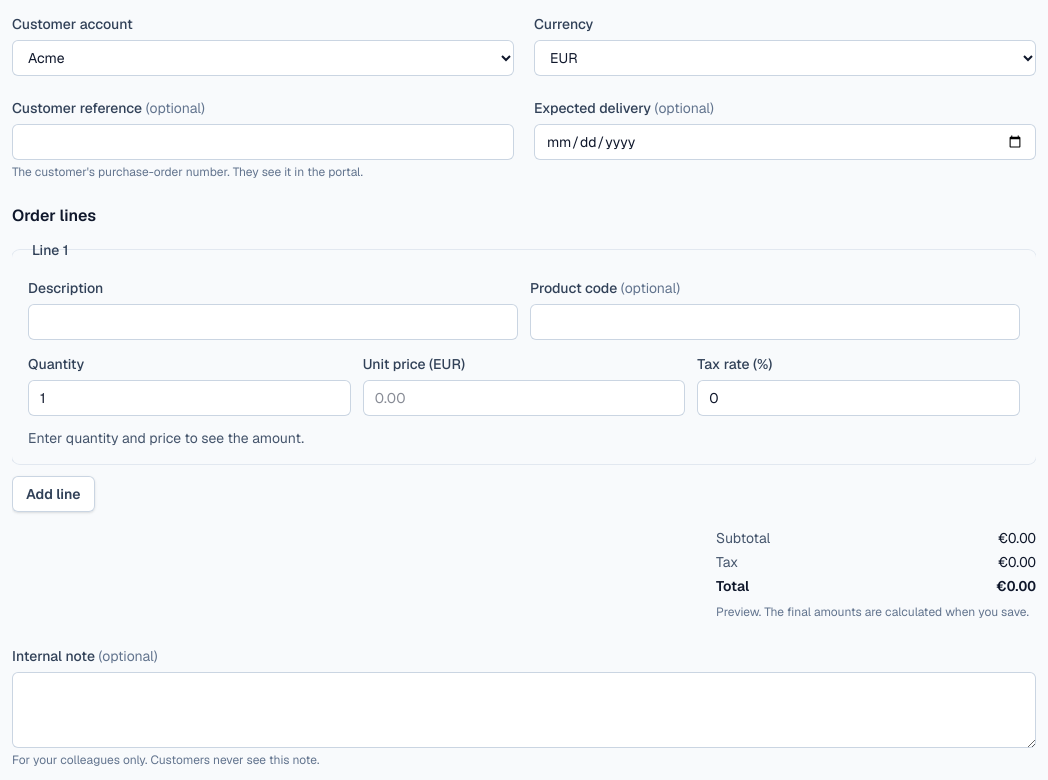
OrderForm › previews line amounts and the total while typing, and can add and remove lines
Replace the text in the field labelled "Quantity" with "3" at (189, 398), box [28,380,351,416]
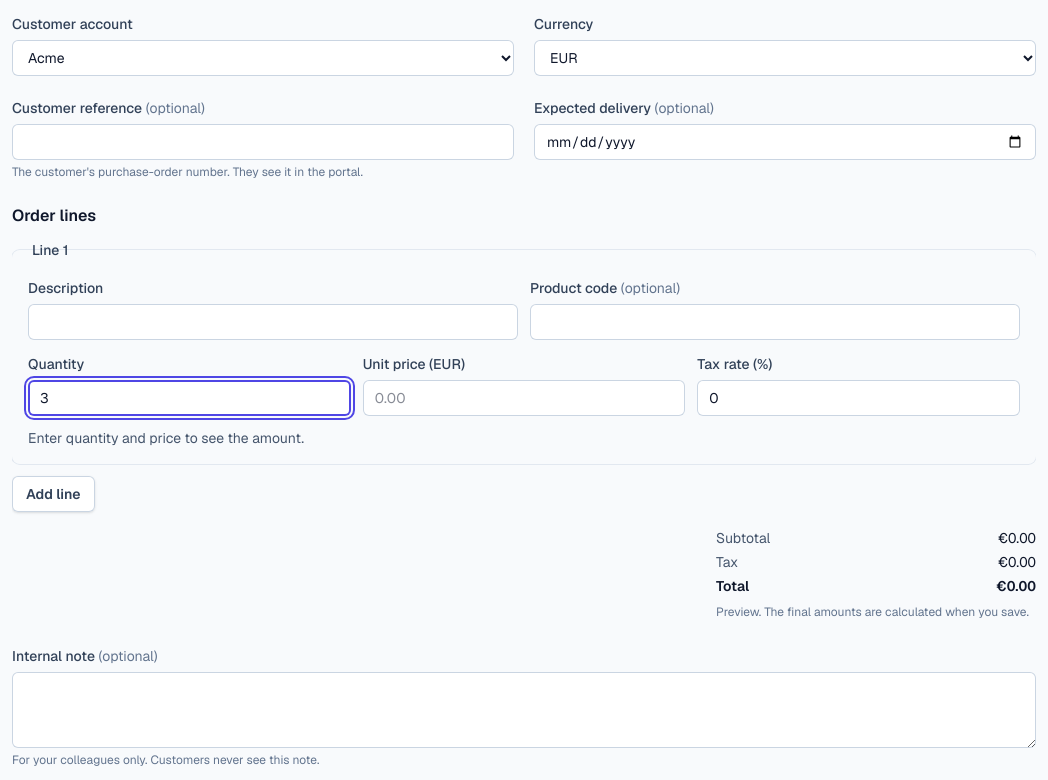
Type "19.99" into the field labelled "Unit price (EUR)".
click(524, 398); type("19.99")  # box [363,380,685,416]
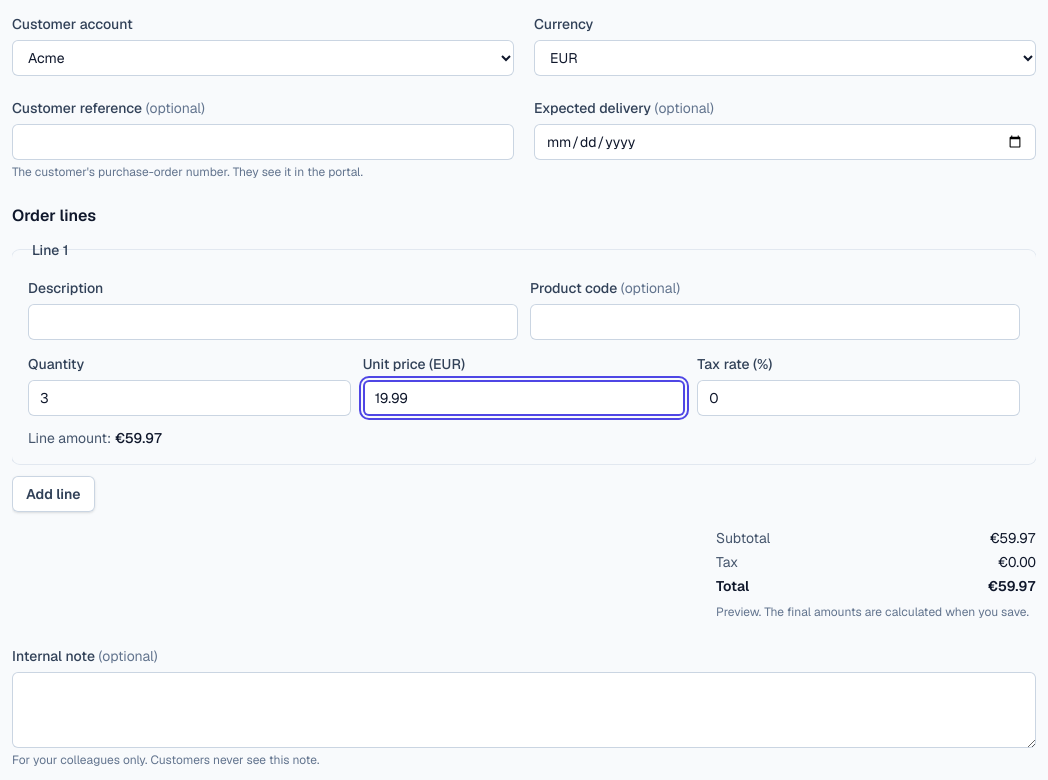
Replace the text in the field labelled "Tax rate (%)" with "19" at (859, 398), box [697,380,1020,416]
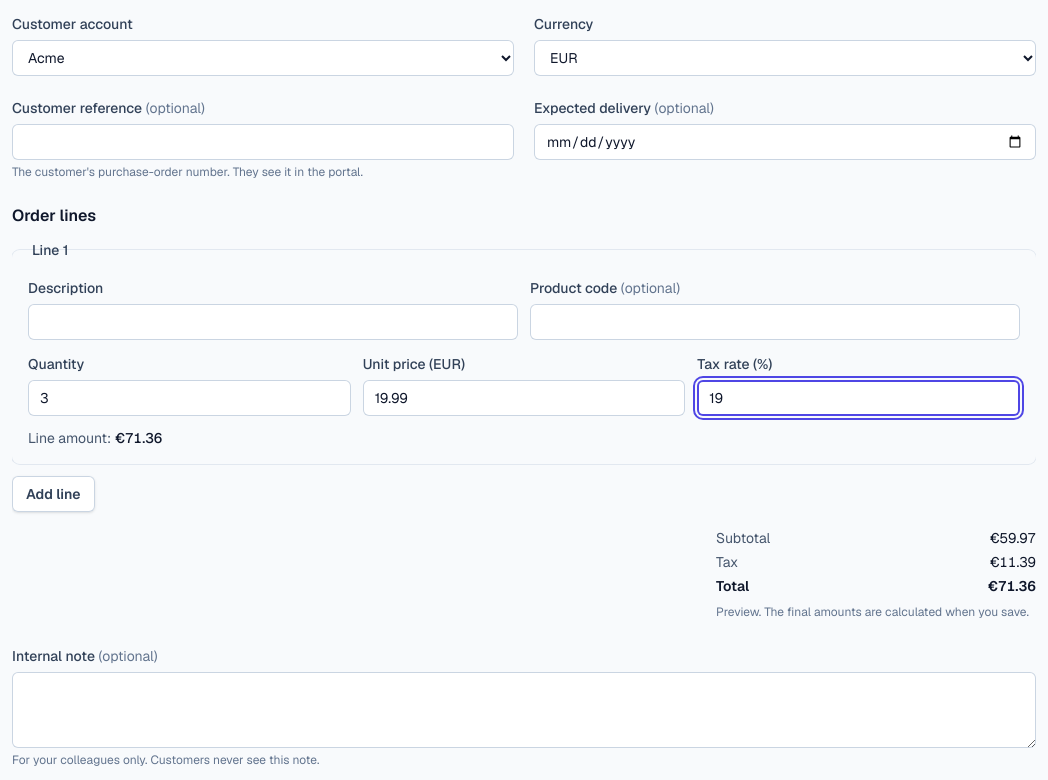
Expected: the text "€71.36" next to "Line amount:" is shown, [115,429,162,447]
Click the button "Add line".
click(53, 494)  # box [12,476,95,512]
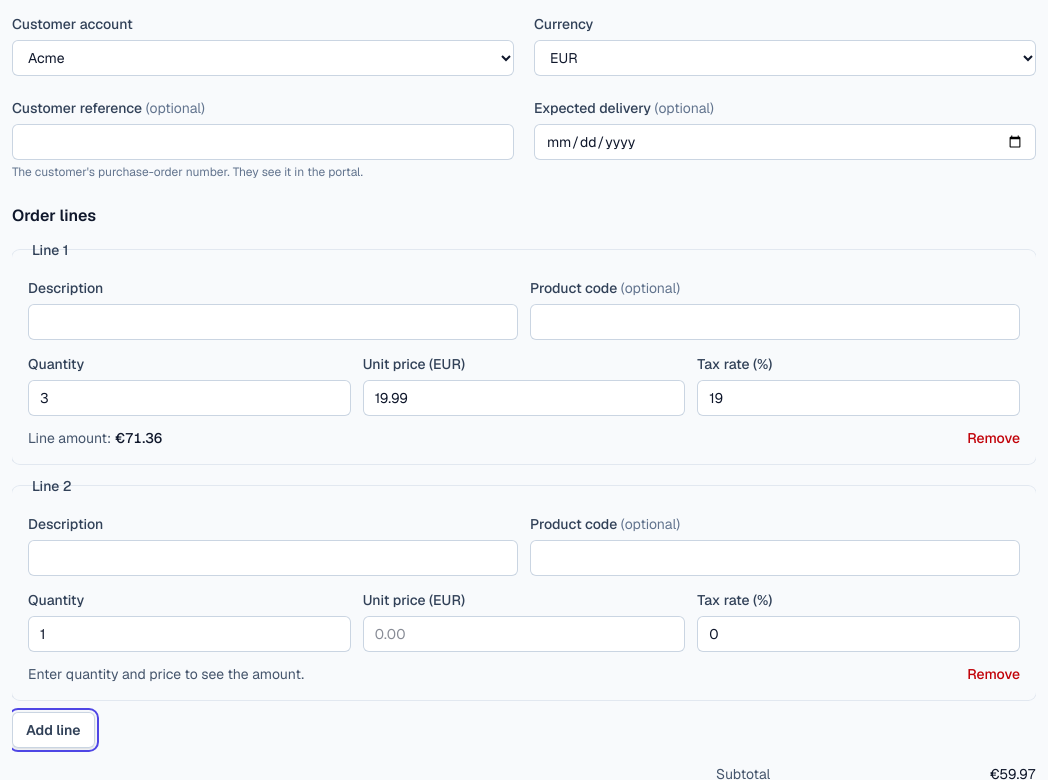
Expected: the element "Line 2" is shown, [12,476,1036,700]
Click the button with aria-label "Remove line 2".
click(994, 674)  # box [967,664,1020,684]
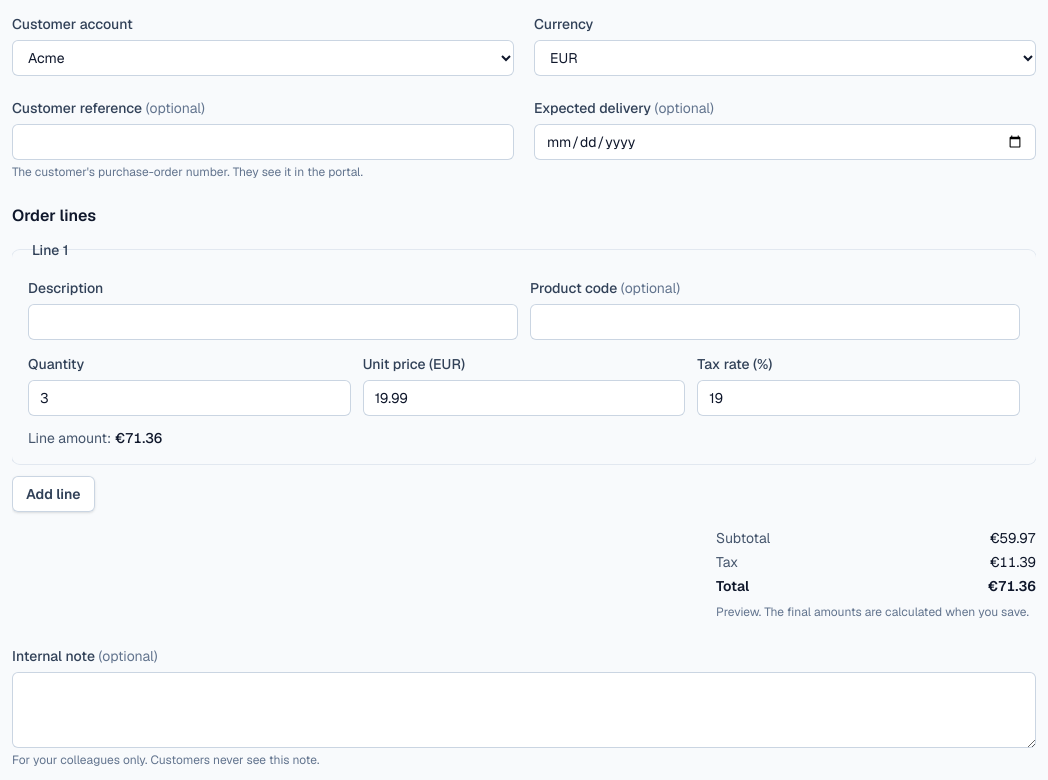
Expected: the text "€71.36" is shown once, [987,576,1036,596]
Expected: the text "Line 2" is gone
